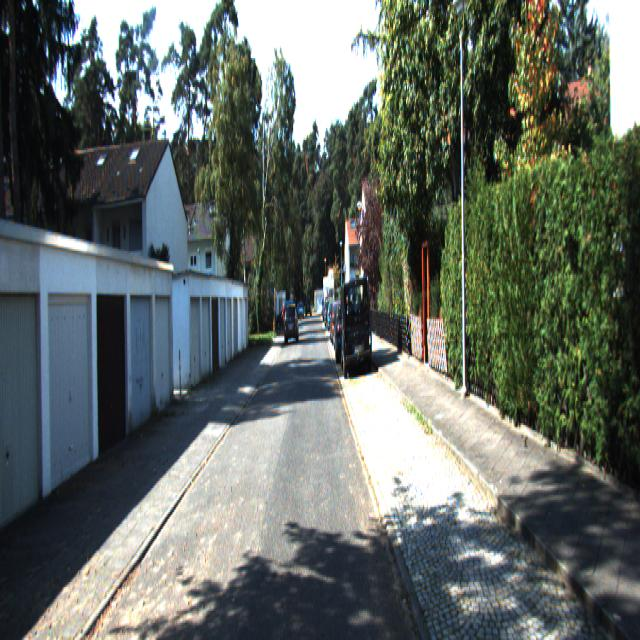Car: (339, 277, 371, 377), (284, 303, 299, 344)
